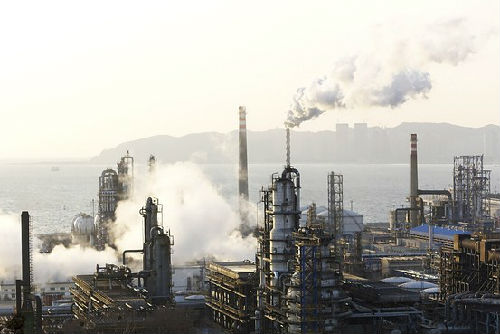dust: (279, 62, 354, 137)
